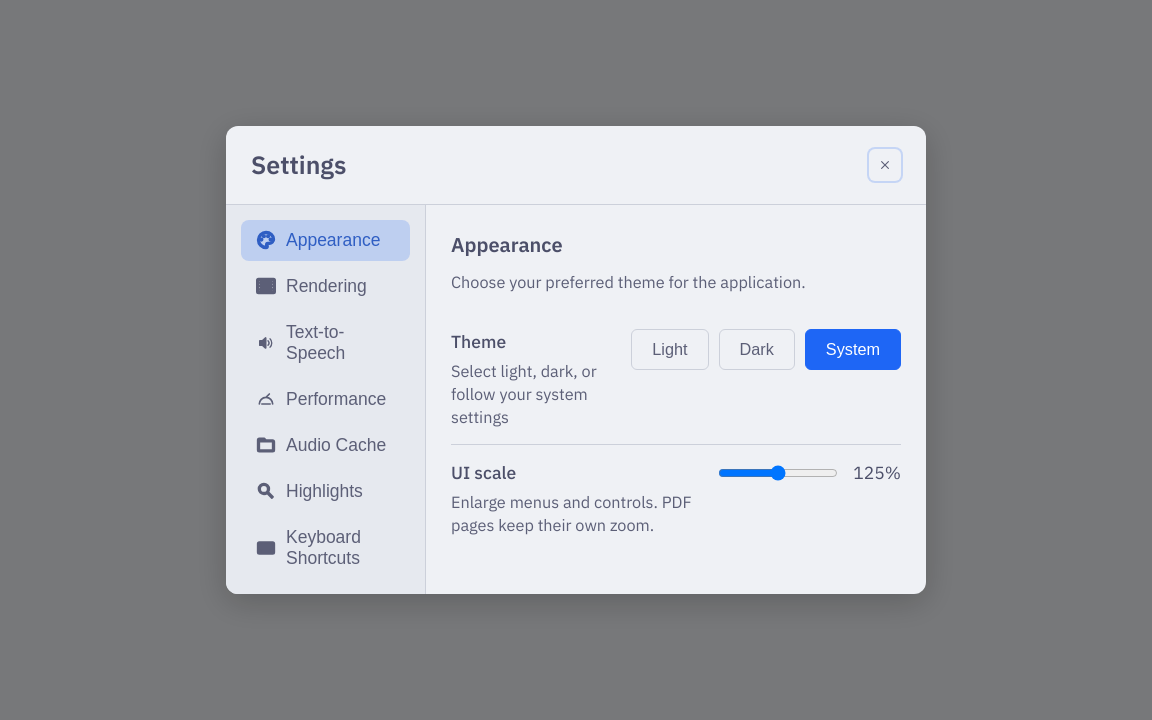
Test case: narration Performance settings › is reachable as a named Settings navigation section
The image size is (1152, 720).
Click the button "Performance" at (326, 399), box [241,379,410,420]
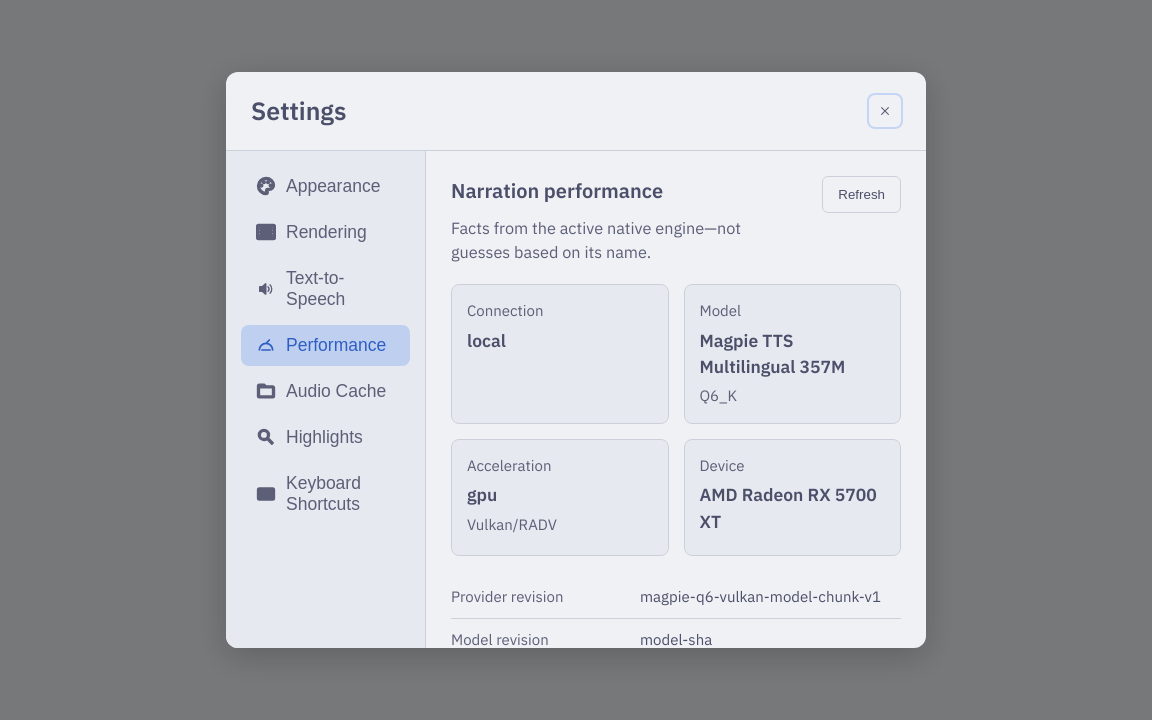
Expected: the heading "Narration performance" is shown, [451,176,663,204]
